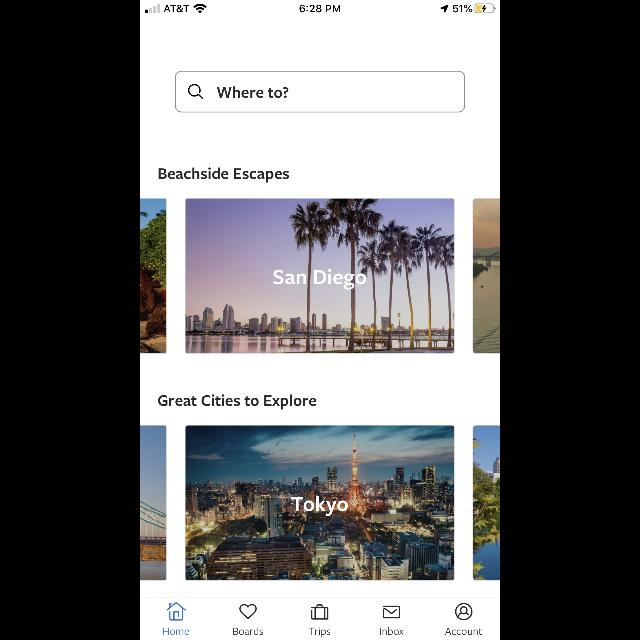icon: (168, 603, 186, 621), (456, 604, 472, 620), (312, 604, 328, 620), (240, 604, 256, 620), (188, 84, 204, 100), (382, 606, 400, 618)
image: (185, 425, 455, 581), (185, 198, 455, 354), (472, 425, 500, 581), (140, 425, 168, 581), (472, 198, 500, 354), (141, 198, 167, 354)
input: (175, 71, 465, 113)
text: (158, 394, 316, 410), (274, 268, 366, 290), (159, 168, 289, 182), (290, 496, 348, 516), (218, 88, 288, 99), (234, 627, 264, 635), (444, 628, 482, 634), (310, 627, 330, 637), (164, 628, 188, 634), (381, 628, 404, 634)
uppertaskbar: (140, 0, 500, 14)
